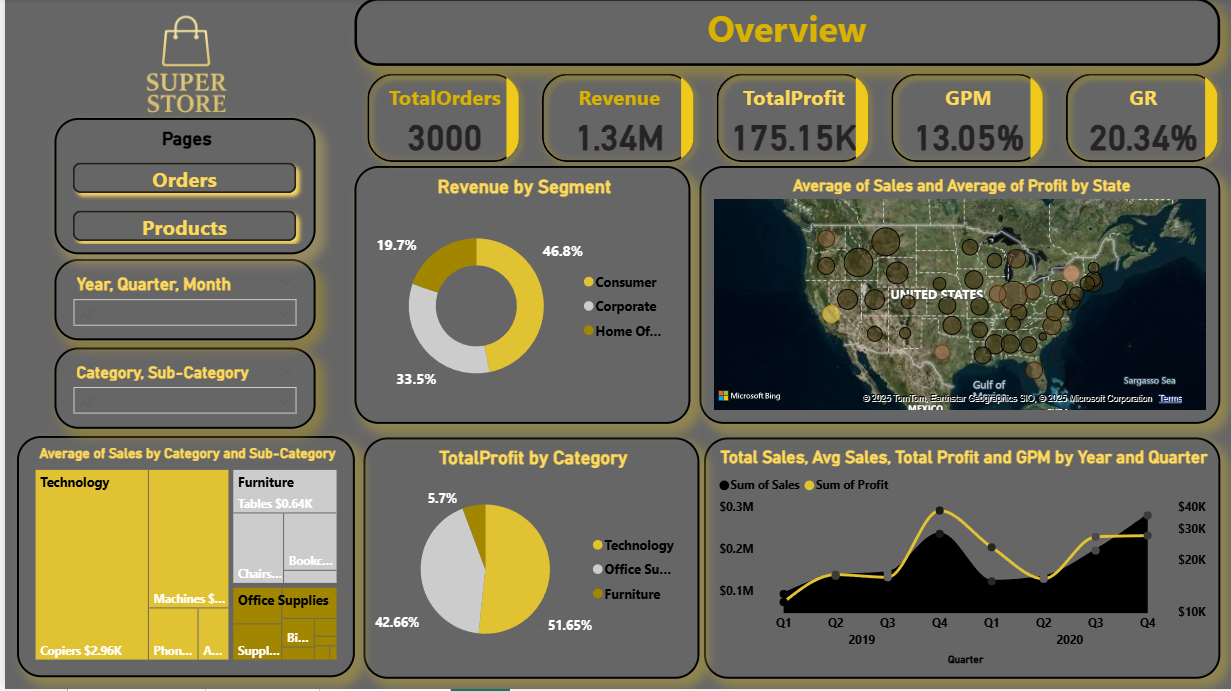

The page's visual inventory and layout, read from the dashboard file:
{"tool":"powerbi","page":{"name":"Overview","canvas":[1280,720],"ordinal":0},"visuals":[{"type":"cardVisual","fields":{"Data":["Fact-Sales.TotalOrders","Fact-Sales.Revenue","Orders.TotalProfit","Orders.MGP","Orders.GR"]},"box":[364.2,46.9,915.9,156.3],"z":0},{"type":"lineChart","title":"Total Sales, Avg Sales, Total Profit and GPM by Year and Quarter","fields":{"Category":["Date.Year Hierarchy.Year","Date.Year Hierarchy.Quarter","Date.Year Hierarchy.Month"],"Y":["Sum(Orders.Sales)"],"Y2":["Sum(Orders.Profit)"]},"box":[728.4,458,537.7,251.6],"z":1000},{"type":"map","fields":{"Size":["Avg(Orders.Sales)"],"Category":["Dim-Customers.State"]},"box":[723.7,175.1,542.4,268.8],"z":2000},{"type":"pieChart","fields":{"Category":["Products.Category"],"Y":["Orders.TotalProfit"]},"box":[373.6,458,350.1,251.6],"z":3000},{"type":"treemap","fields":{"Group":["Products.Category"],"Values":["Avg(Orders.Sales)"],"Details":["Products.Sub-Category"]},"box":[12.5,455.9,351.7,251.6],"z":4000},{"type":"donutChart","fields":{"Category":["Customers.Segment"],"Y":["Orders.Revenue"]},"box":[364.2,175.1,350.1,268.8],"z":5000},{"type":"slicer","fields":{"Values":["Products.Category","Products.Sub-Category"]},"box":[51.1,364.7,272,84.4],"z":6000},{"type":"textbox","box":[364.2,0,901.8,70.3],"z":7000},{"type":"slicer","fields":{"Values":["Date.Year Hierarchy.Year","Date.Year Hierarchy.Quarter","Date.Year Hierarchy.Month"]},"box":[51.1,272.5,272,84.4],"z":9000},{"type":"pageNavigator","title":"Pages","box":[51.6,125,272,142.2],"z":10000},{"type":"image","box":[65.6,0,237.6,125],"z":10001}]}

Visuals, with their boxes in screenshot pixels (x1, y1, x2, y2), scaled from the page's 1280x720 canvas onto the 1231x691 screenshot:
cardVisual - Fact-Sales.TotalOrders x Fact-Sales.Revenue: BBox(350, 45, 1230, 195)
"Total Sales, Avg Sales, Total Profit and GPM by Year and Quarter" lineChart: BBox(701, 440, 1218, 681)
map - Avg(Orders.Sales) x Dim-Customers.State: BBox(696, 168, 1218, 426)
pieChart - Products.Category x Orders.TotalProfit: BBox(359, 440, 696, 681)
treemap - Products.Category x Avg(Orders.Sales): BBox(12, 438, 350, 679)
donutChart - Customers.Segment x Orders.Revenue: BBox(350, 168, 687, 426)
slicer - Products.Category x Products.Sub-Category: BBox(49, 350, 311, 431)
textbox: BBox(350, 0, 1218, 67)
slicer - Date.Year Hierarchy.Year x Date.Year Hierarchy.Quarter: BBox(49, 262, 311, 343)
"Pages" pageNavigator: BBox(50, 120, 311, 256)
image: BBox(63, 0, 292, 120)
